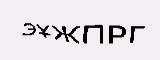Г: (129, 24, 146, 46)
Ж: (51, 24, 81, 47)
П: (80, 22, 107, 47)
Р: (106, 20, 127, 47)
Э: (21, 20, 36, 38)
Ұ: (35, 20, 51, 41)
